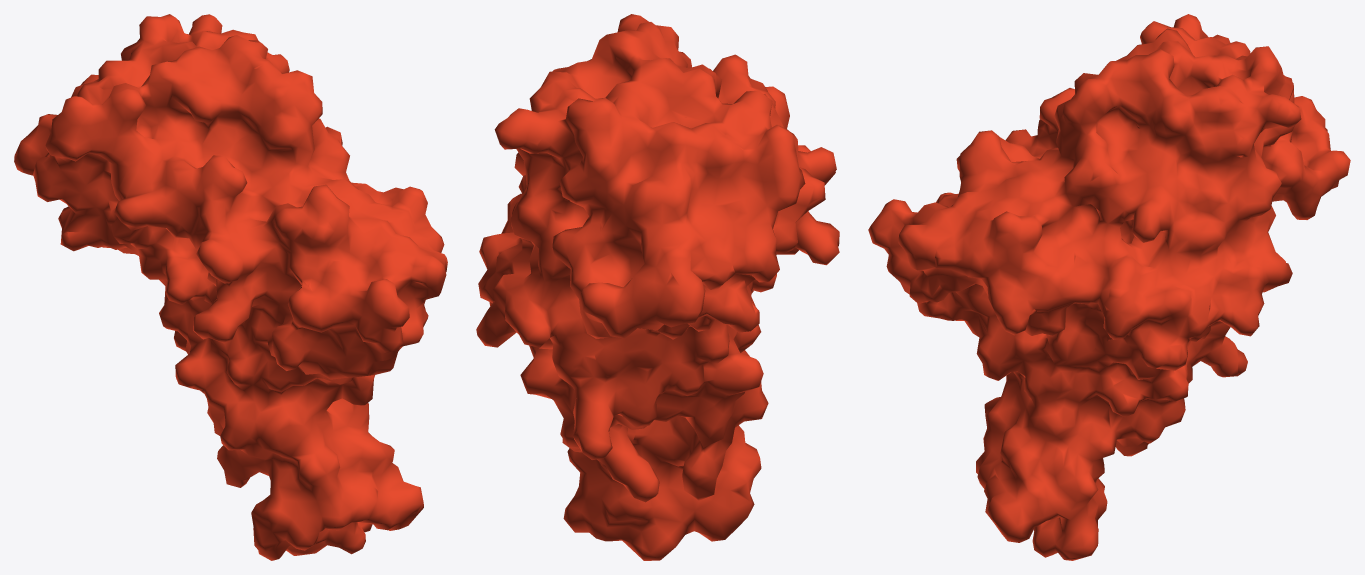
File: spike_molecular_downsampled.obj
3 views of the same model, side by side, from view 1: azimuth 30°, elevation 25°; view 2: azimuth 150°, elevation 25°; view 3: azimuth 270°, elevation 25° (orthographic). The views are drawn at different scales.
Parts seen in each view (by area): view 1: spike_molecular; view 2: spike_molecular; view 3: spike_molecular.
Part boxes in pixels (bbox=[...]): spike_molecular: bbox=[14, 14, 447, 560]; spike_molecular: bbox=[476, 14, 839, 560]; spike_molecular: bbox=[868, 14, 1350, 560].
Size of the model in its own units: 38.31 by 60.32 by 54.82.
